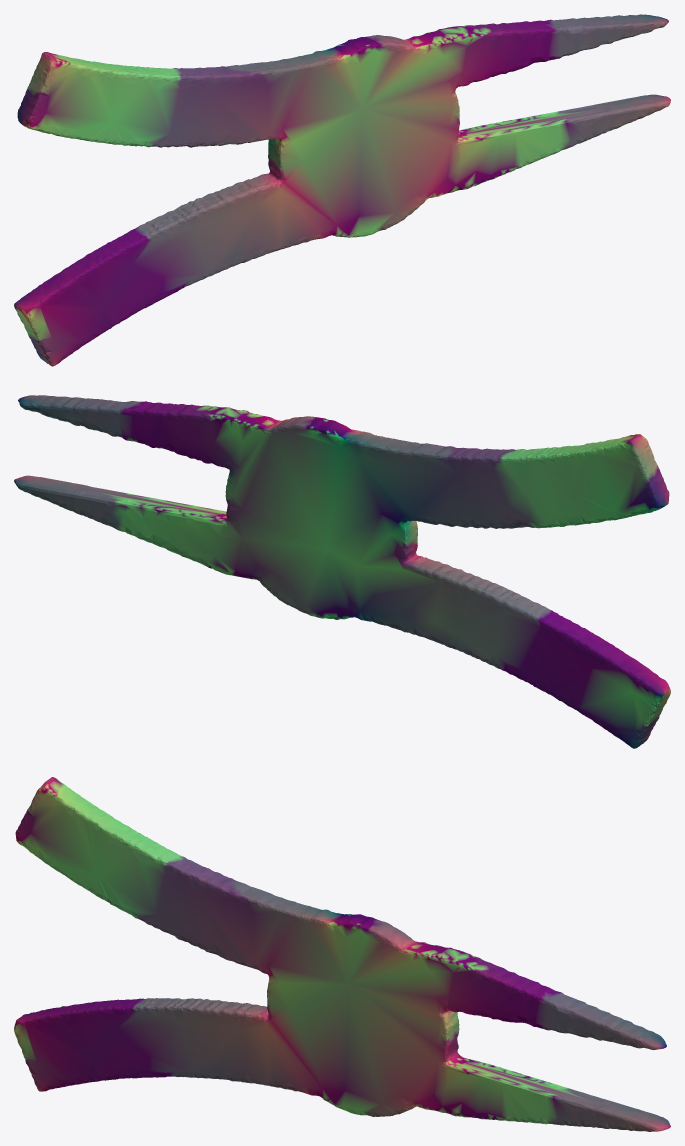
File: scissor-3.off.obj
The picture shows the model from 3 angles, top to bottom: view 1: azimuth 30°, elevation 25°; view 2: azimuth 150°, elevation 25°; view 3: azimuth 330°, elevation 25°; orthographic projection.
Size of the model in its own units: 1.59 by 0.7156 by 0.0561.
